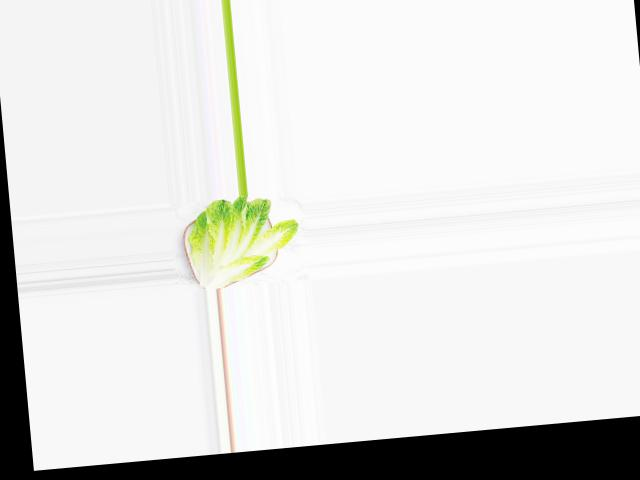lettuce: (178, 190, 305, 288)
